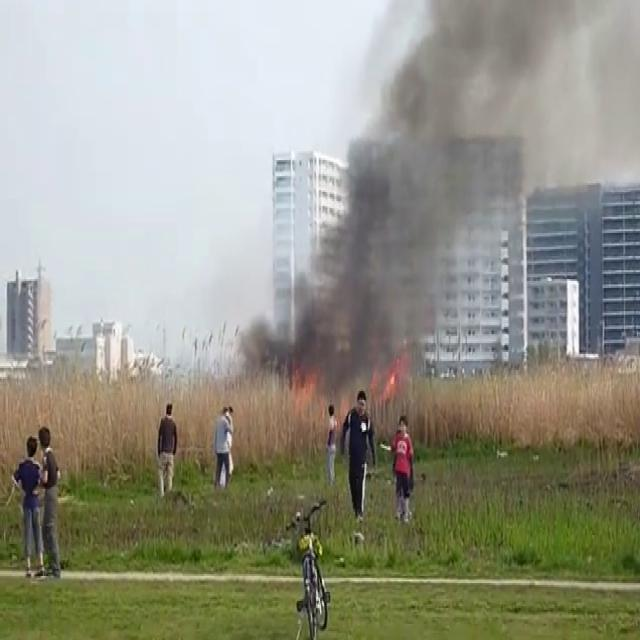Fire: (284, 365, 326, 412)
Smoke: (262, 0, 540, 396), (386, 0, 628, 204)
